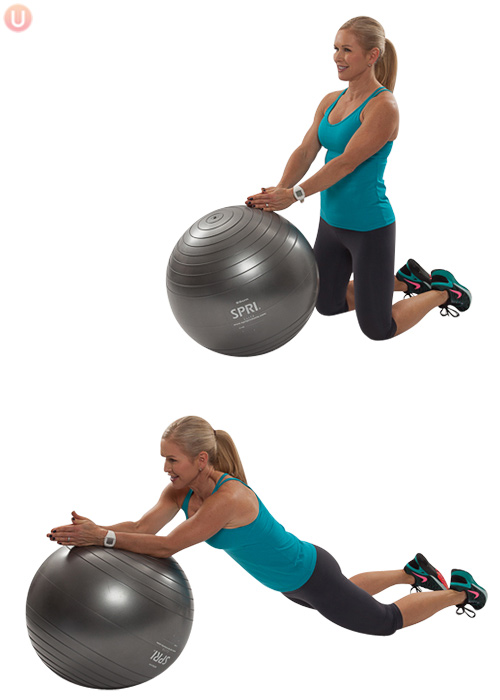yogaball: (22, 533, 200, 692), (164, 203, 323, 361)
